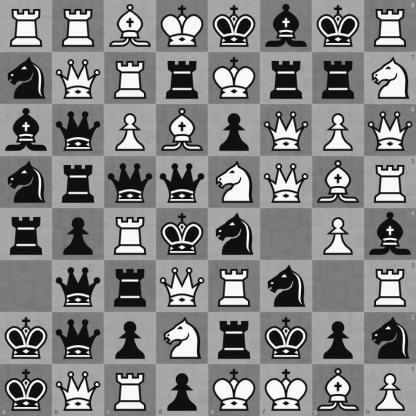B: (312, 364, 364, 416), (105, 1, 156, 52), (157, 105, 208, 156), (313, 157, 364, 208)
K: (260, 364, 312, 416), (209, 364, 260, 416), (157, 1, 208, 52), (209, 53, 260, 104)
N: (364, 52, 416, 104), (157, 313, 208, 364), (209, 157, 260, 208)
P: (364, 364, 416, 416), (105, 105, 156, 156), (313, 105, 364, 156), (313, 209, 364, 260)
Q: (52, 364, 104, 416), (364, 104, 416, 156), (53, 53, 104, 104), (157, 261, 208, 312), (261, 105, 312, 156), (261, 157, 312, 208)
R: (364, 156, 416, 209), (104, 364, 156, 416), (364, 0, 416, 52), (364, 260, 416, 312), (1, 1, 52, 52), (53, 1, 104, 52), (105, 53, 156, 104), (105, 209, 156, 260), (209, 261, 260, 312)
b: (364, 209, 416, 260), (1, 105, 52, 156), (261, 1, 312, 52)
board: (0, 0, 415, 415)
k: (0, 364, 52, 416), (1, 313, 52, 364), (157, 209, 208, 260), (209, 1, 260, 52), (261, 313, 312, 364), (313, 1, 364, 52)
n: (364, 312, 416, 364), (1, 53, 52, 104), (1, 157, 52, 208), (209, 209, 260, 260), (261, 261, 312, 312)
p: (156, 364, 209, 416), (53, 209, 104, 260), (105, 313, 156, 364), (209, 105, 260, 156), (313, 313, 364, 364)
q: (53, 105, 104, 156), (53, 261, 104, 312), (53, 313, 104, 364), (105, 157, 156, 208), (157, 157, 208, 208)
r: (1, 209, 52, 260), (53, 157, 104, 208), (105, 261, 156, 312), (157, 53, 208, 104), (209, 313, 260, 364), (261, 53, 312, 104), (313, 53, 364, 104)
